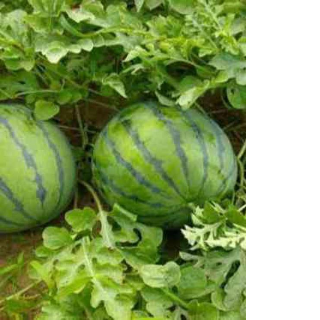dua_hau: (83, 97, 238, 236), (1, 101, 79, 238)
